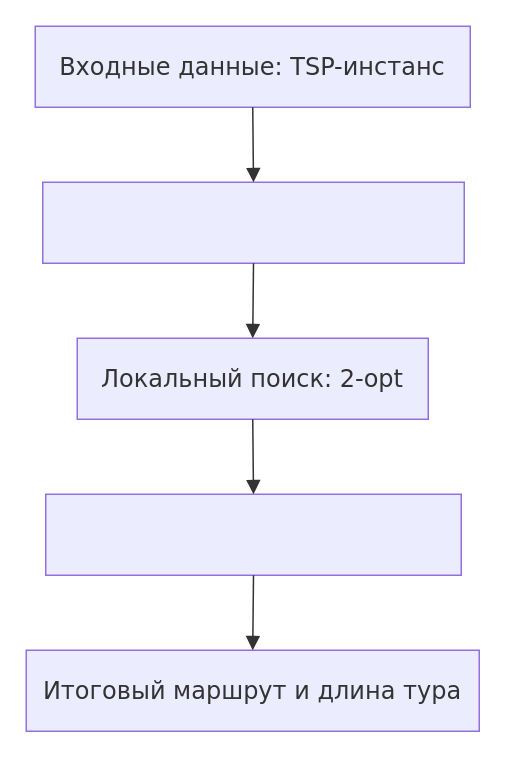
Some shapes in this 506 by 758 pixel diagram are drawn without their labels. Here are the shapes that lost their labels. From the top down, the centre of each, then its label:
At (252,222): "Эвристика: ближайший сосед".
At (252,534): "Проверка допустимости тура".
